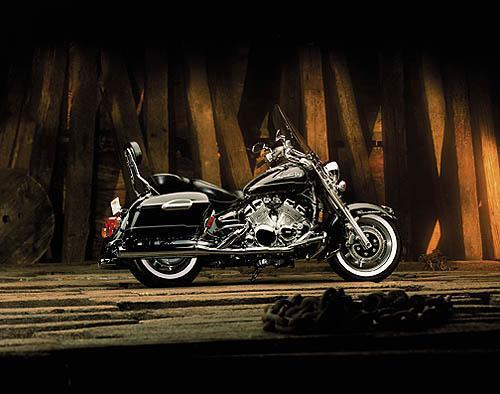motorcycle: (98, 108, 410, 298)
